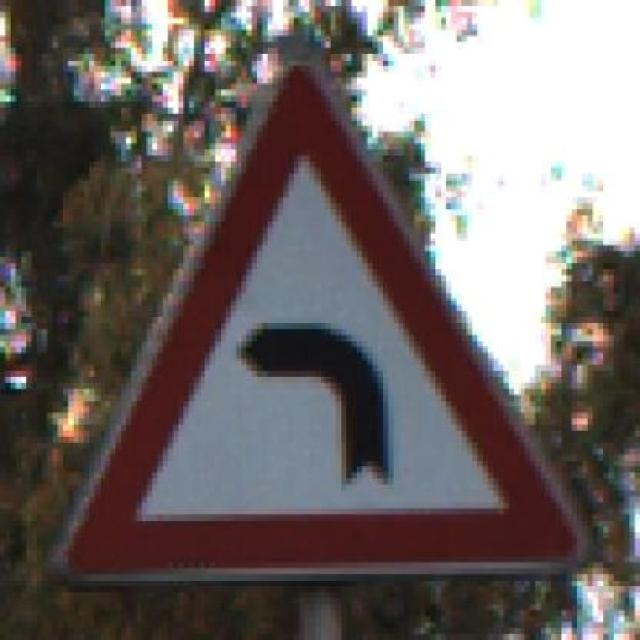Dangerous Left Curve Ahead: (58, 66, 598, 586)
